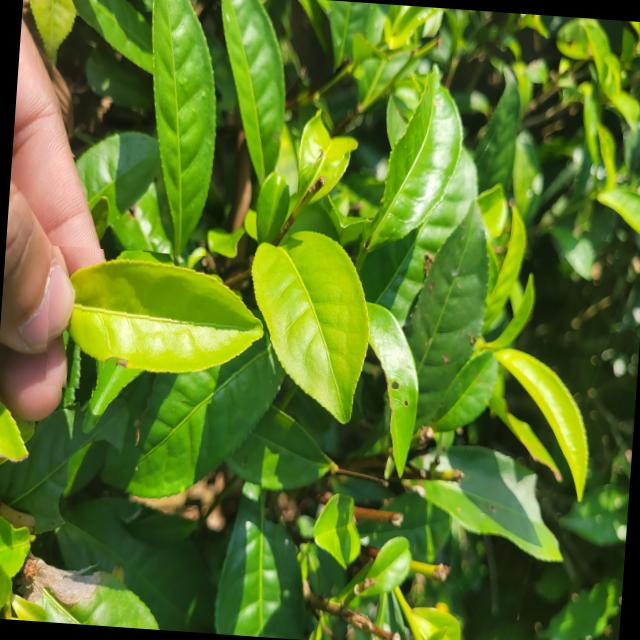Catagory A(1-2 days): (39, 245, 274, 410)
